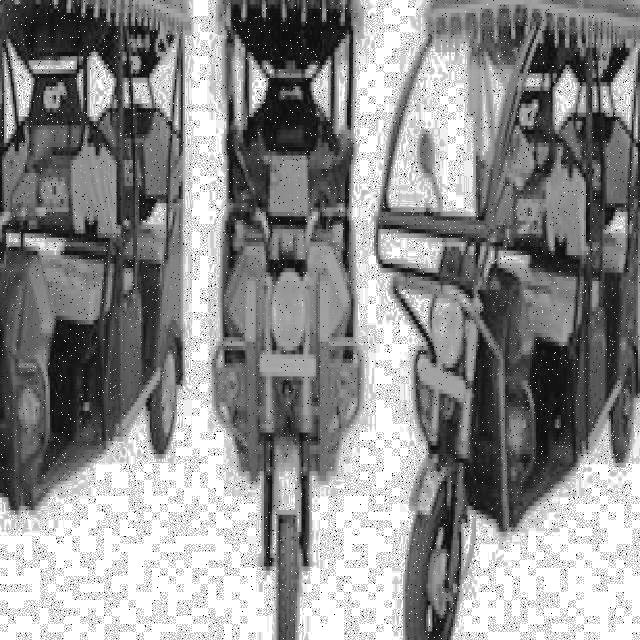Toto: (376, 0, 640, 640), (0, 0, 191, 640), (212, 0, 364, 640)
